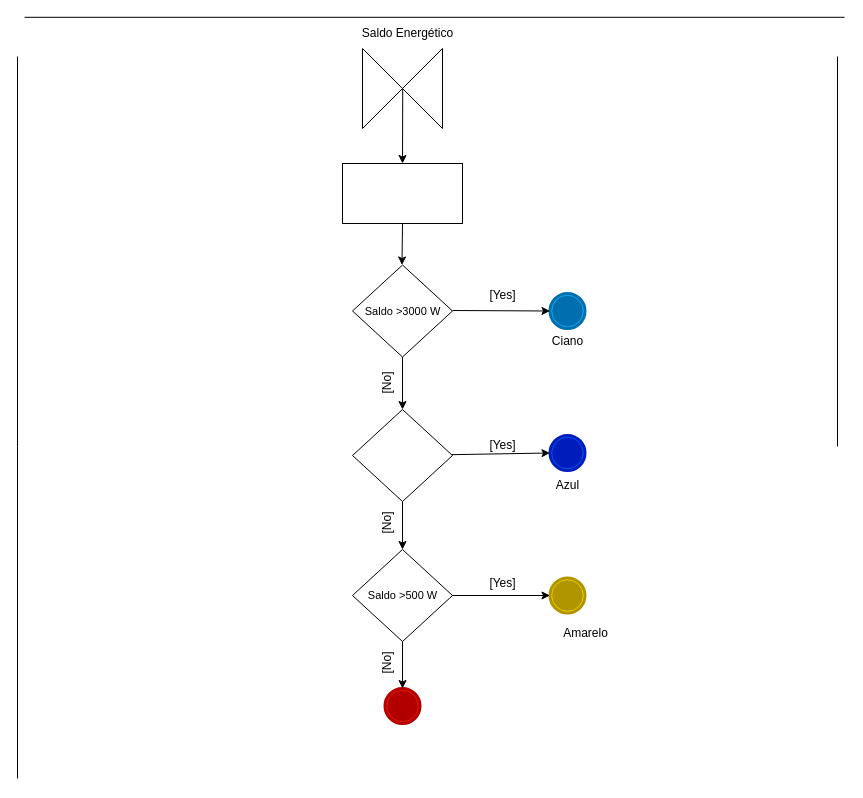
Some shapes in this 863 by 798 pixel diagram are drawn without their labels. The shapes that lost their labels are listed below. From the top down, each one's centre as x and y in pixels, then its label:
(402,193): Leitura do saldo energético
(402,455): Saldo >1000 W
